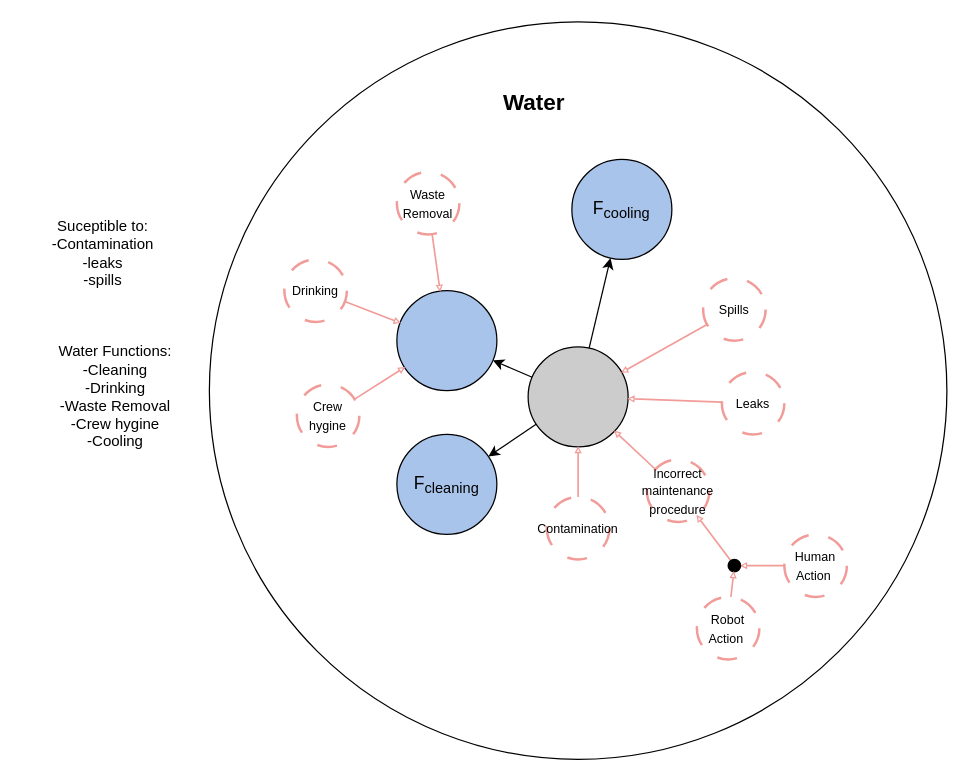
The diagram is 969 pixels wide and 781 high, and some of its shapes have lost their labels. The centre of each missing label's shape, as x and y in pixels:
"F crew_consumption" goes at point (446, 340).
"H water" goes at point (577, 396).
